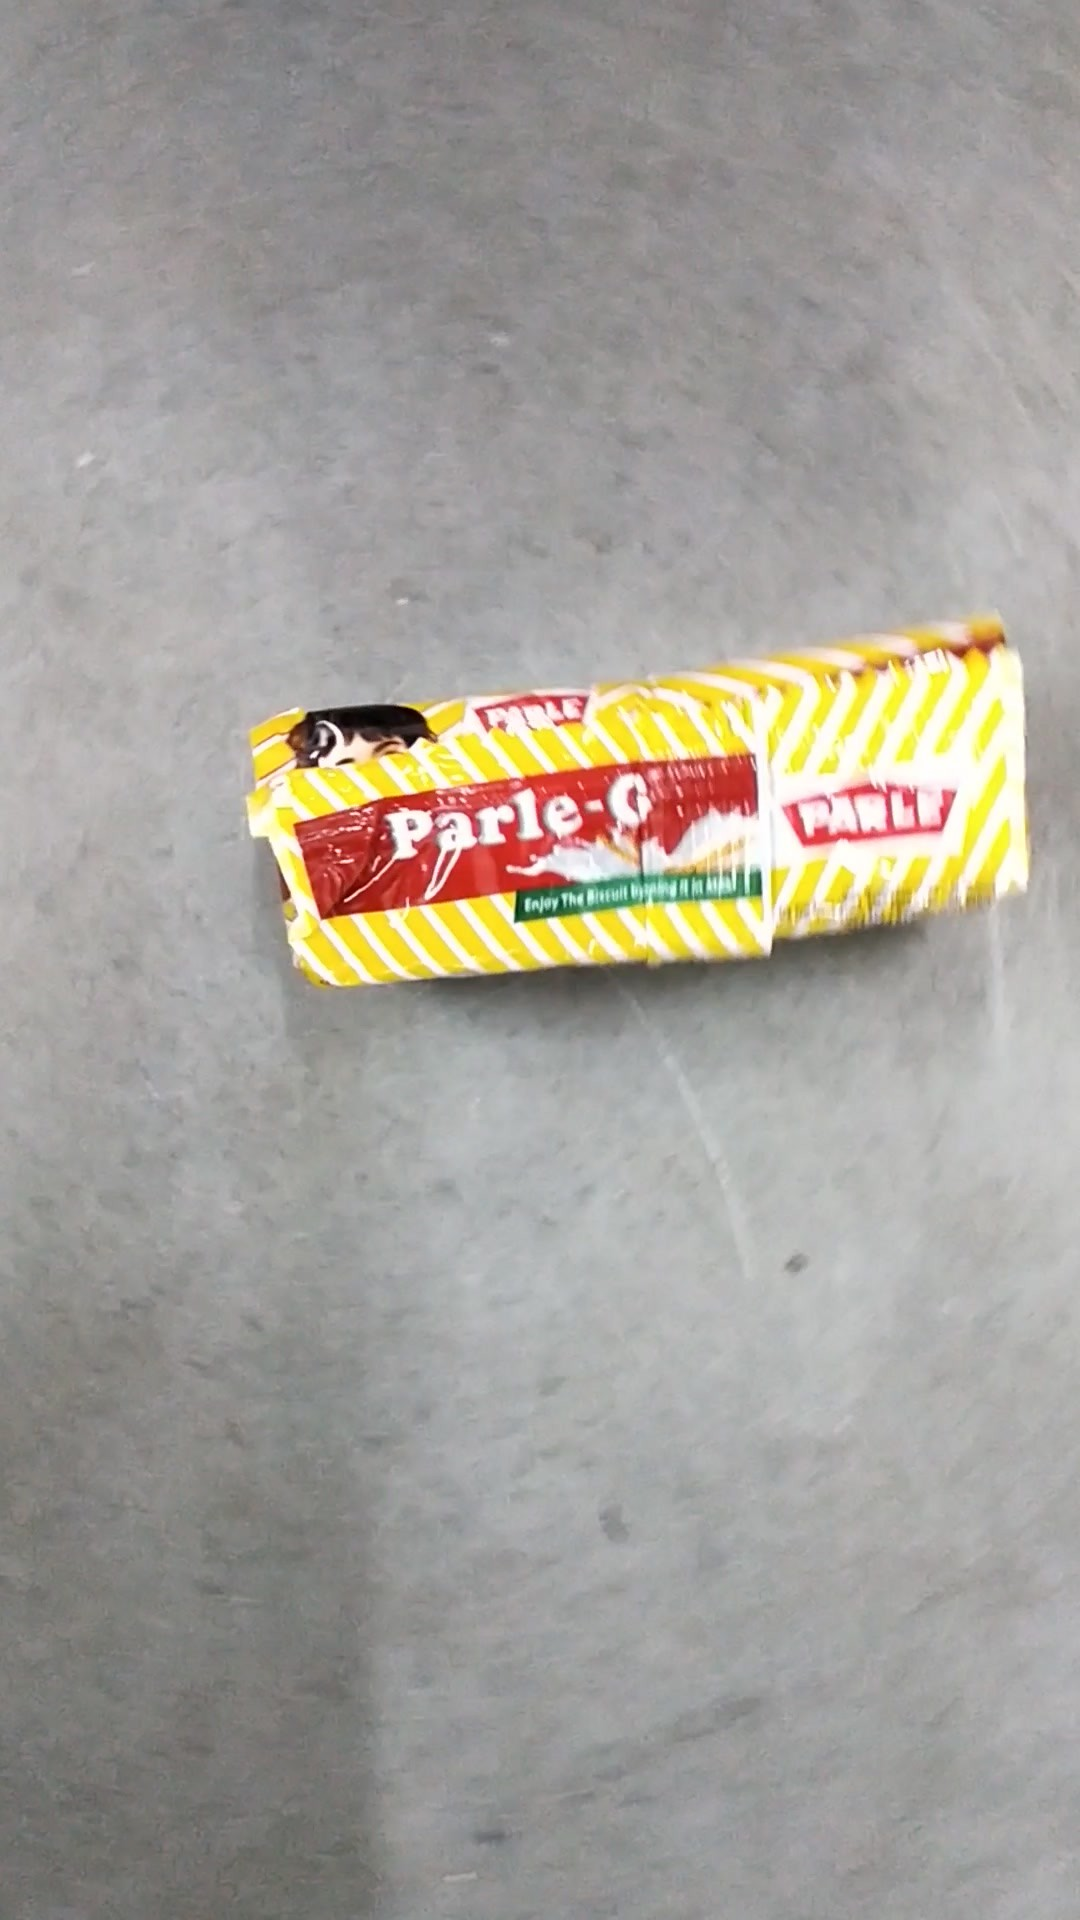parle-g-b: (287, 720, 1009, 913)
